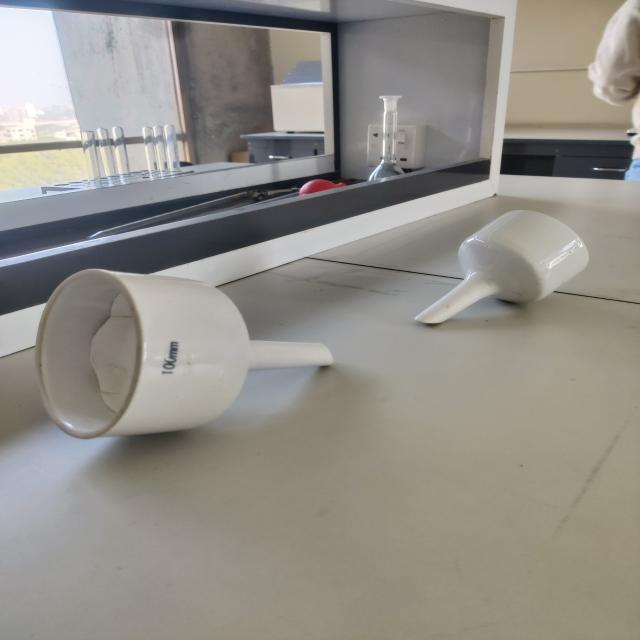Buchner_Funnel: (18, 224, 364, 478), (393, 181, 608, 358)
